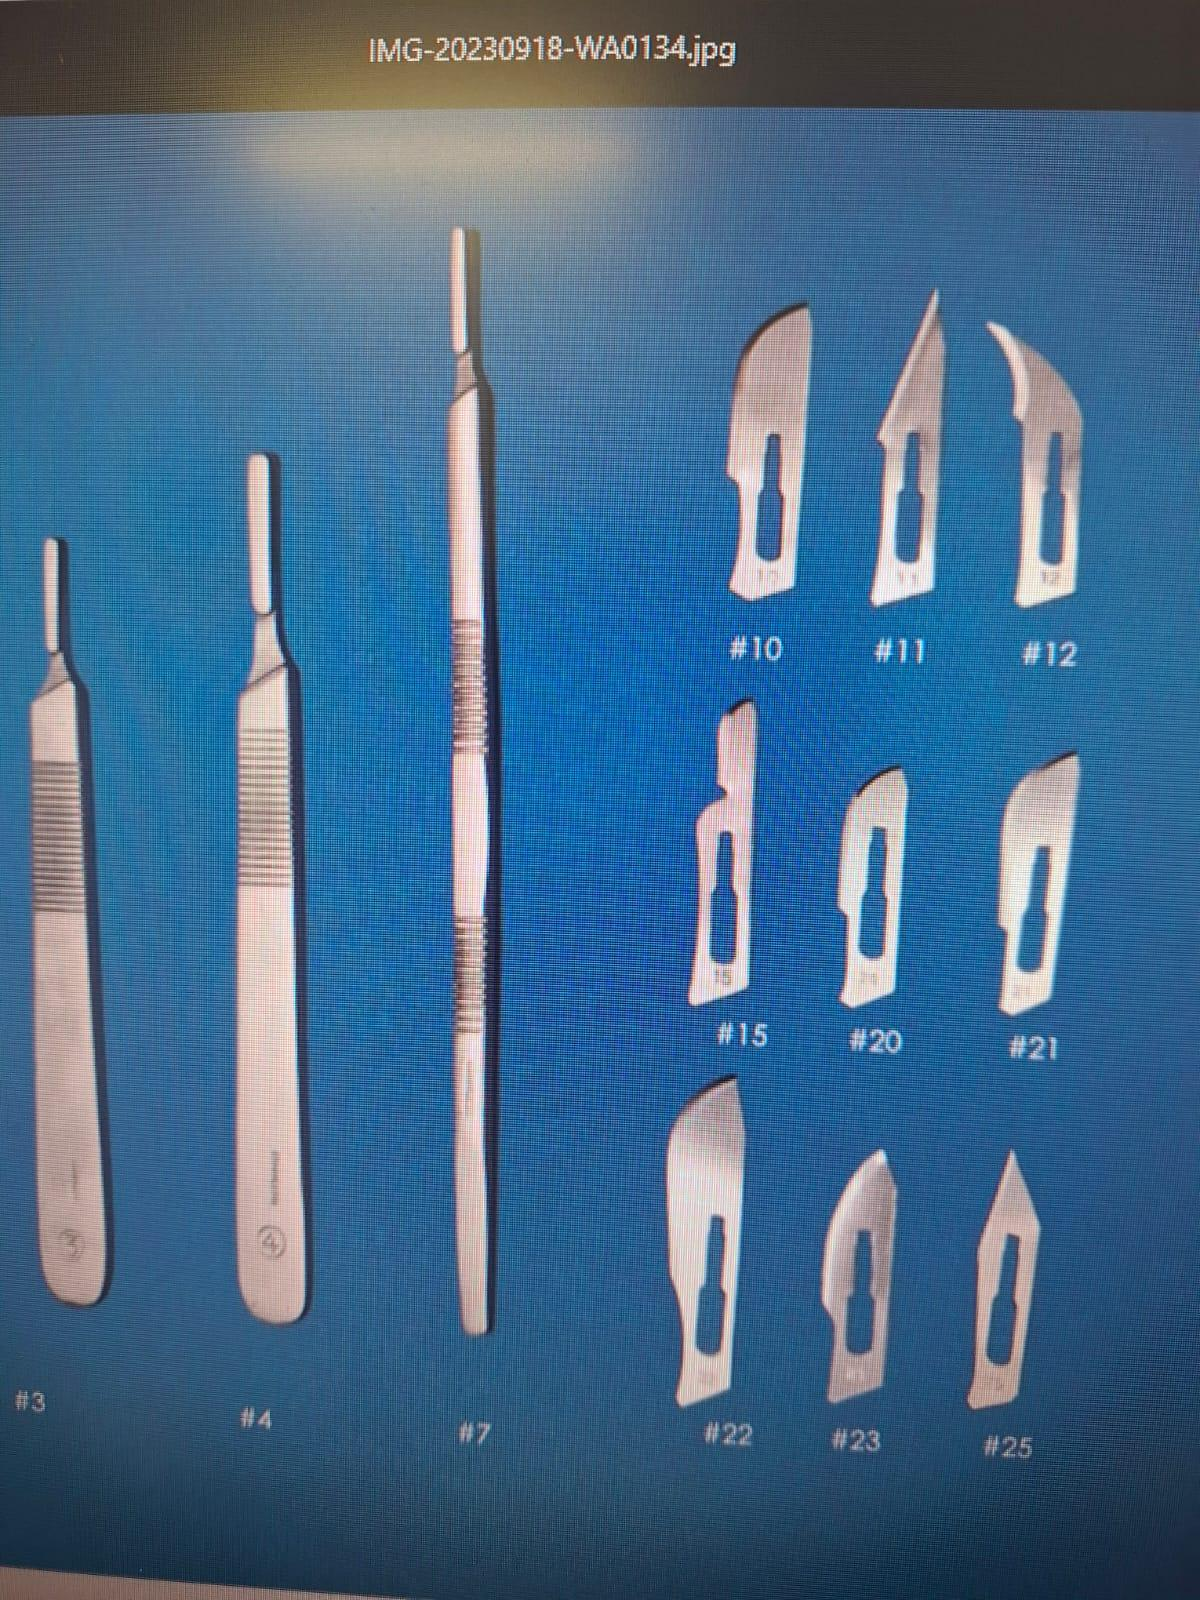Knife Blade: (687, 287, 824, 622), (645, 1065, 773, 1412), (987, 302, 1108, 615), (857, 282, 968, 617), (803, 1135, 923, 1420), (955, 1133, 1068, 1420), (992, 750, 1103, 1026), (821, 757, 925, 1018)
Knife Handle: (13, 523, 145, 1318), (213, 430, 318, 1343)
